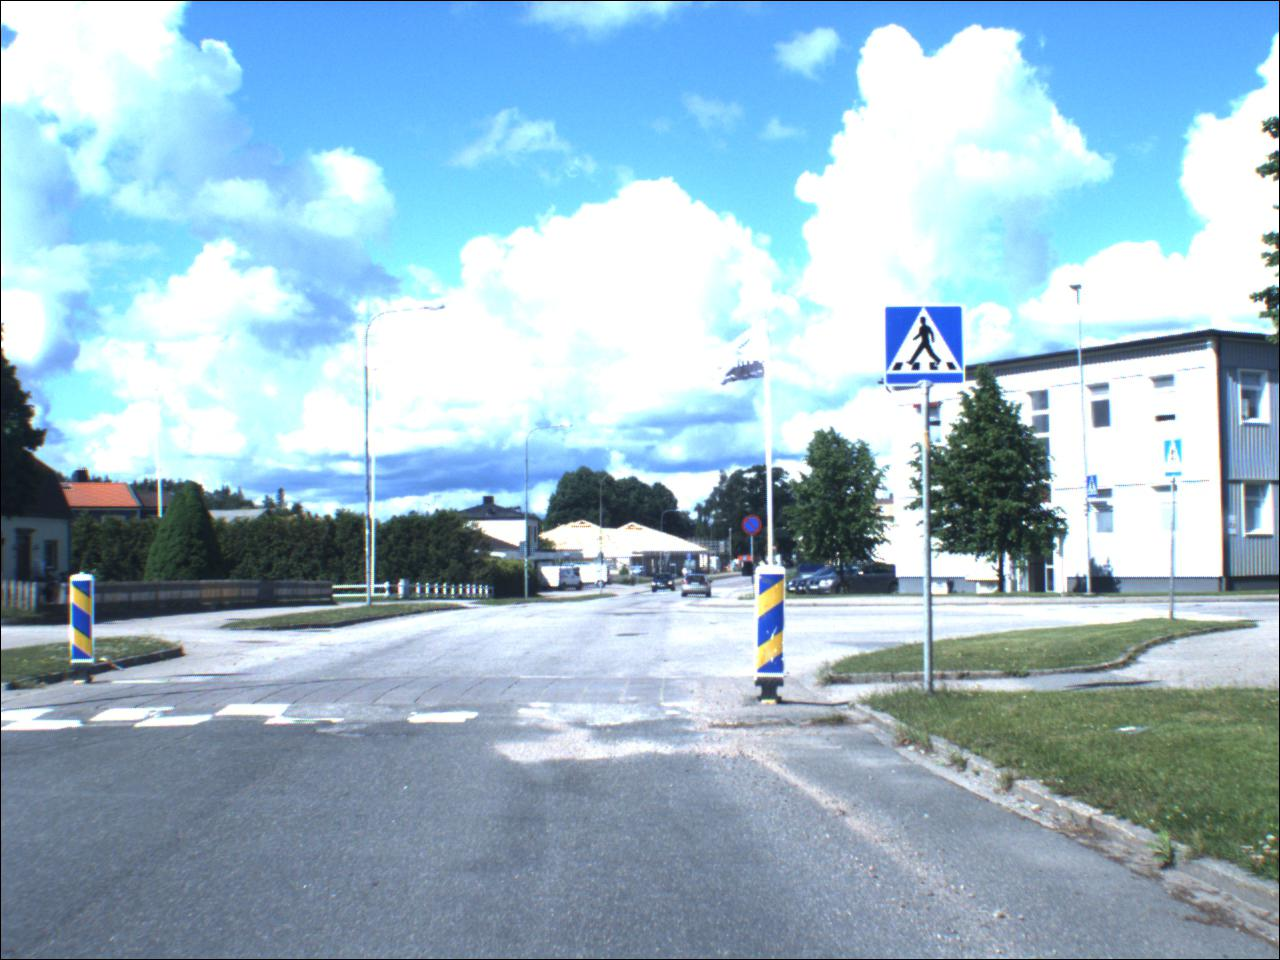NO_PARKING: (743, 516, 765, 538)
PEDESTRIAN_CROSSING: (886, 306, 969, 387), (1166, 440, 1186, 479), (1087, 477, 1100, 500)
